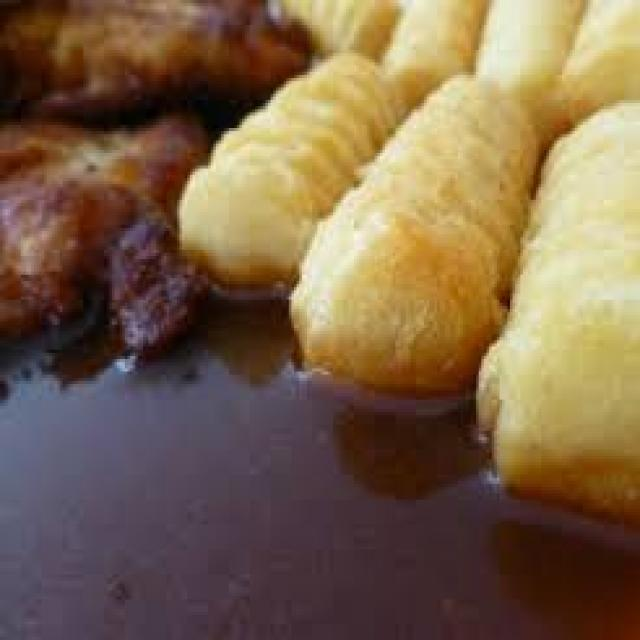organic waste: (0, 0, 637, 637), (289, 69, 541, 393), (471, 100, 637, 528), (172, 47, 406, 284), (0, 109, 208, 337), (0, 0, 312, 112), (471, 0, 580, 156), (101, 206, 206, 350), (536, 0, 637, 144), (378, 0, 482, 97), (276, 0, 393, 59)
